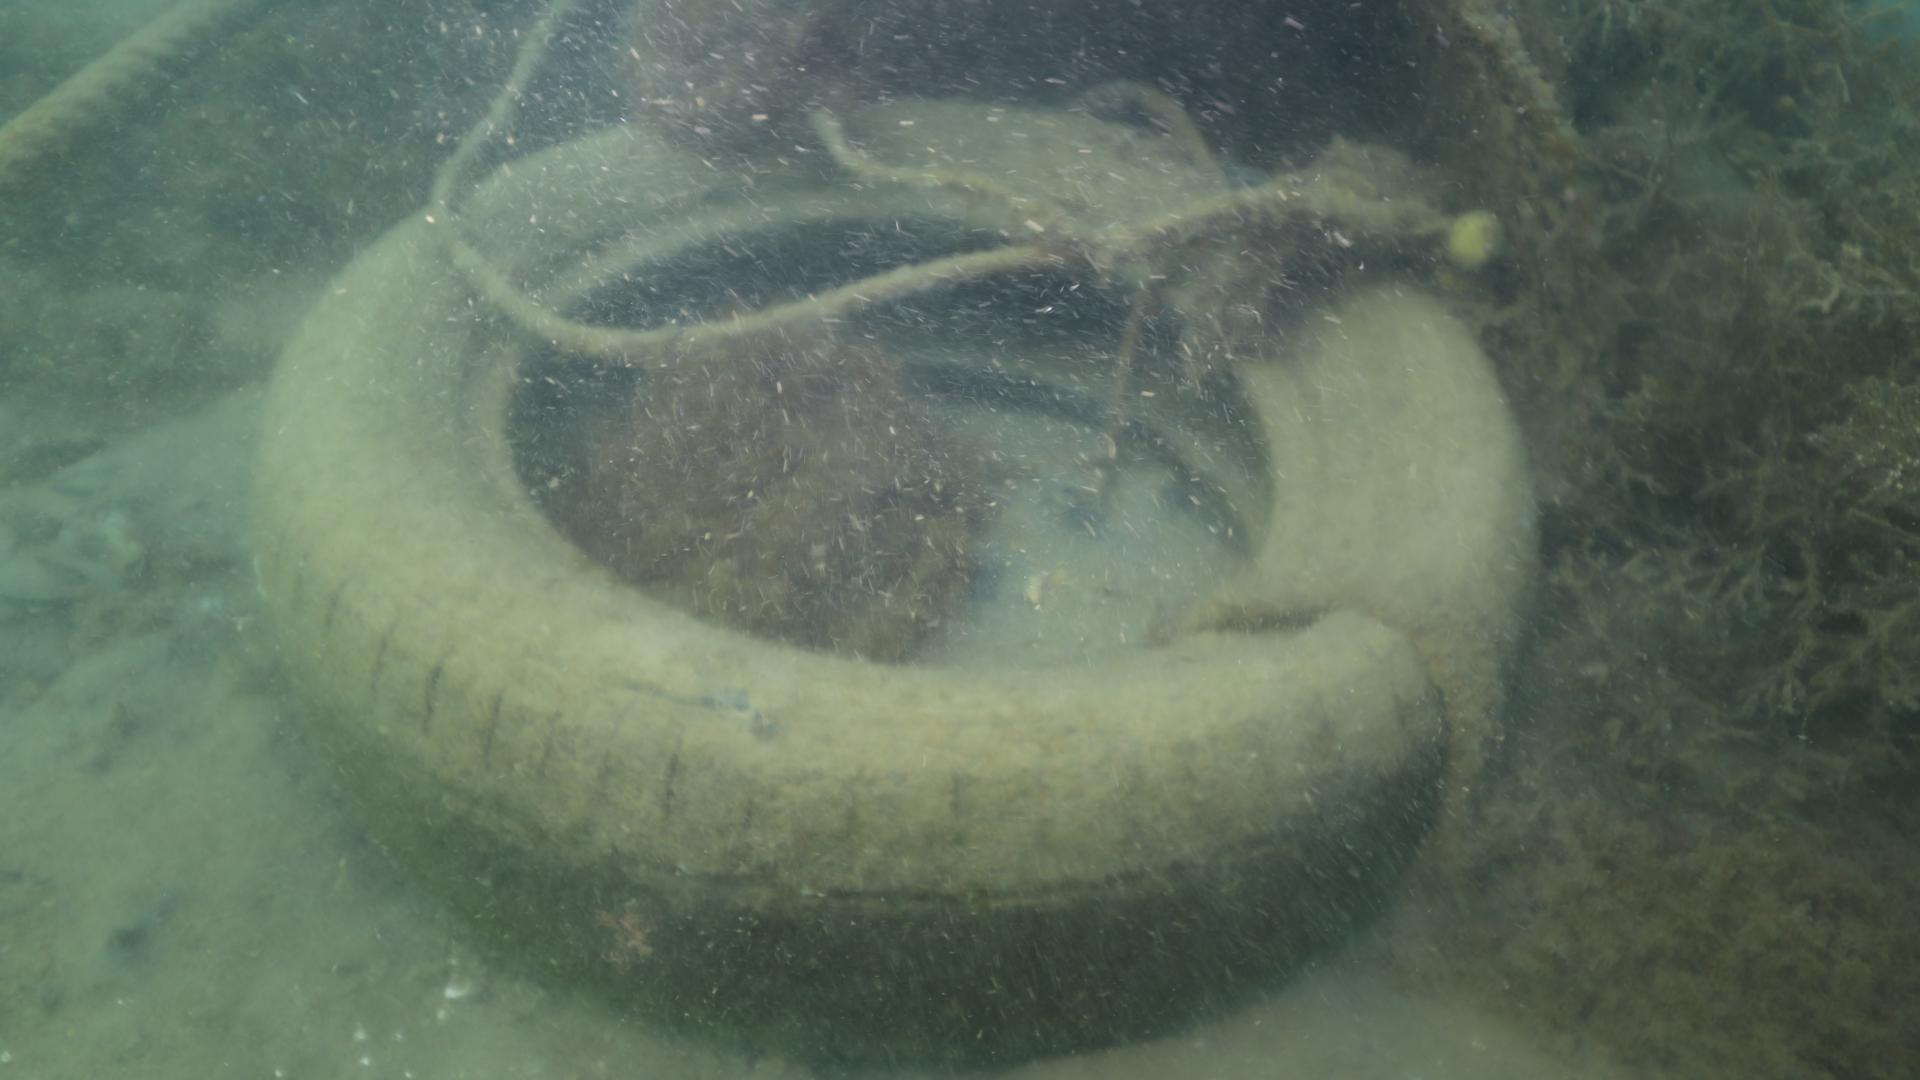bundle of ropes: (433, 0, 1265, 357)
rope: (0, 0, 280, 171)
tire: (251, 94, 1540, 1054)
